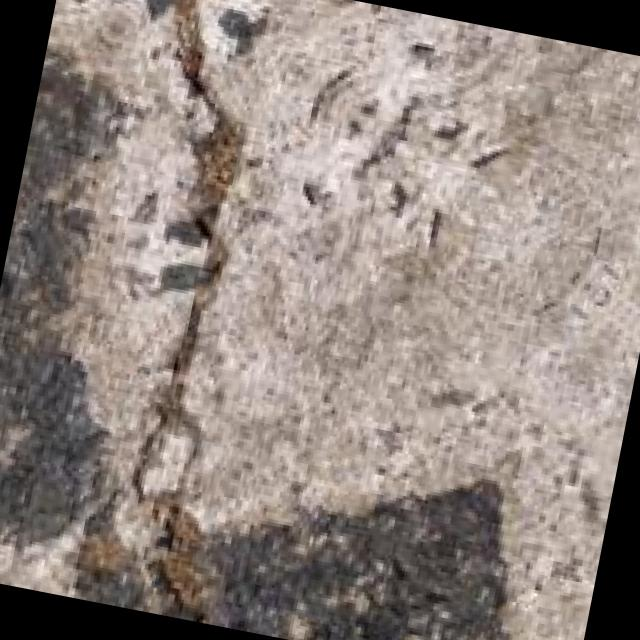crack: (38, 0, 383, 529)
